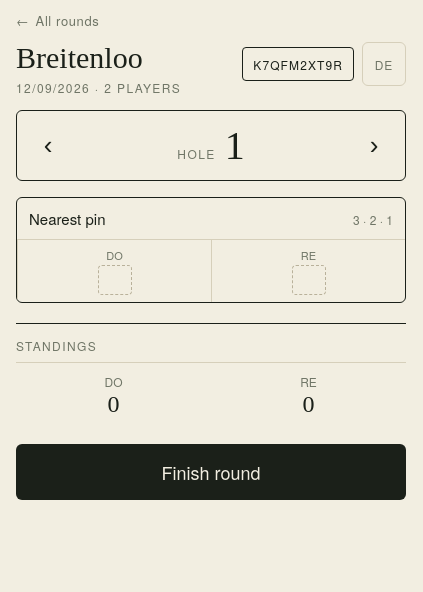
Test: LiveRound › does not carry a refused-tie message to a hole where nothing was tapped
The width and height of the screenshot is (423, 592).
Click the button with test id "cell-c1-p1" at (114, 270), box [17, 240, 211, 302]
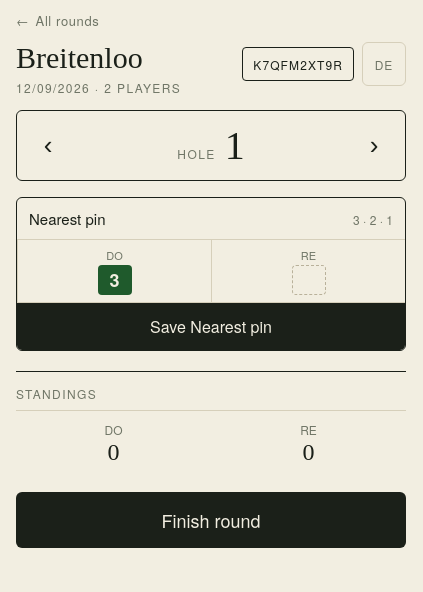
Click the button with test id "cell-c1-p2" at (308, 270), box [211, 240, 405, 302]
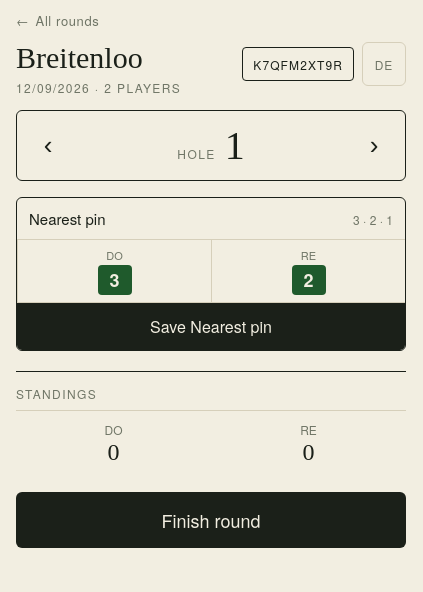
Click the button with test id "cell-c1-p2" at (308, 270), box [211, 240, 405, 302]
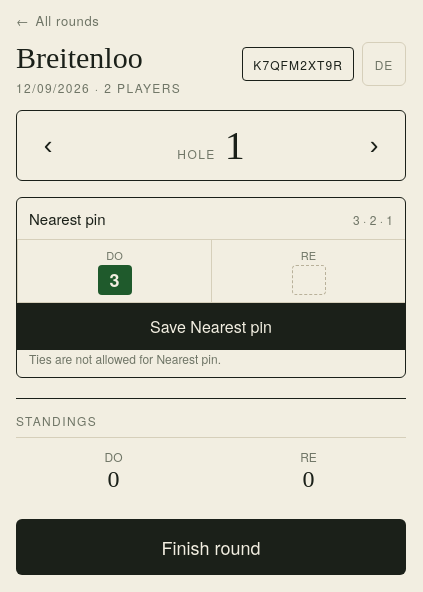
Now the text "Ties are not allowed for Nearest pin." is shown, box [29, 350, 221, 366]
Click the button named "next hole" at (374, 145), box [343, 114, 405, 176]
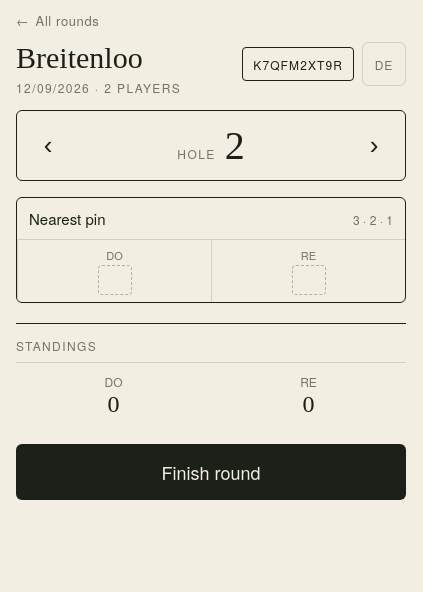
Now the text "Ties are not allowed" is gone
